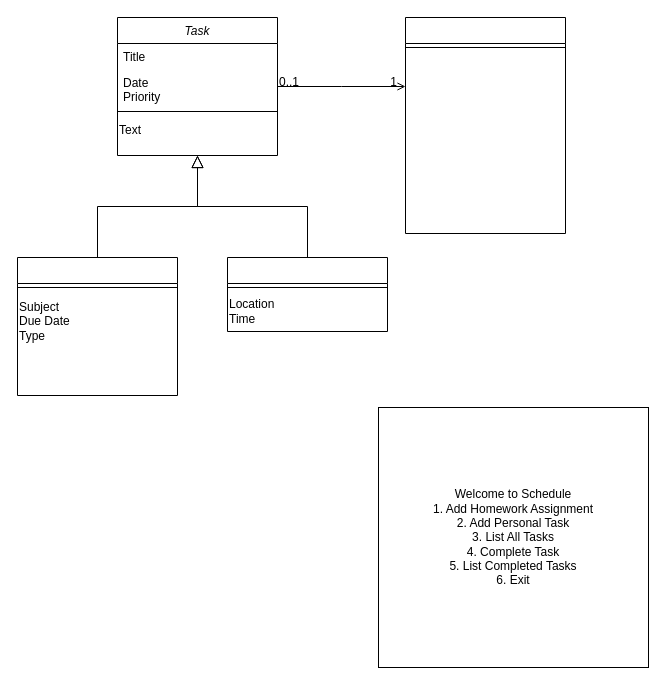
Some shapes in this 666 by 685 pixel diagram are drawn without their labels. Each missing label, with the box of its shape:
Homework: (16, 256, 178, 396)
Personal: (226, 256, 388, 332)
